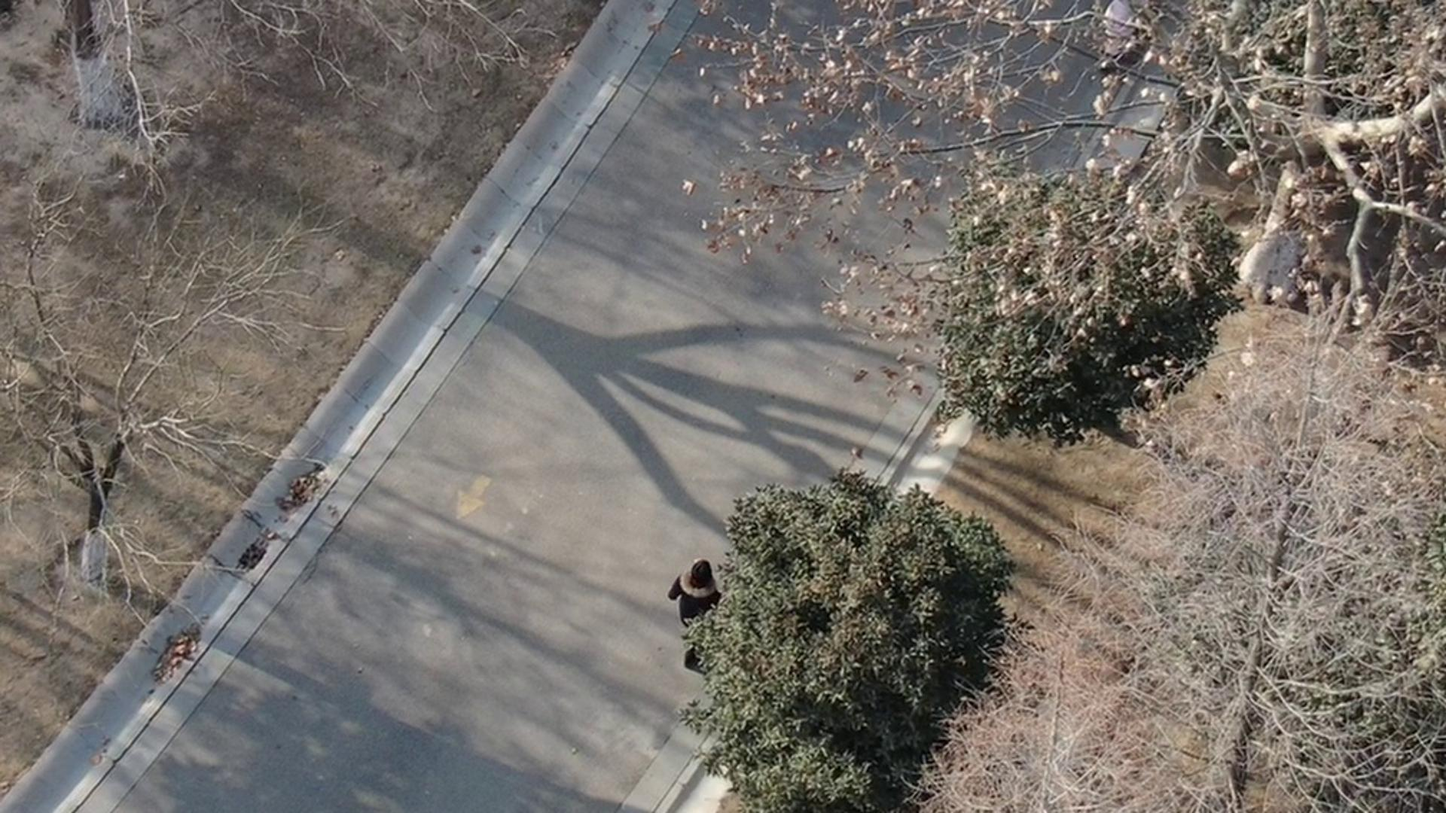human: (678, 568, 713, 677)
